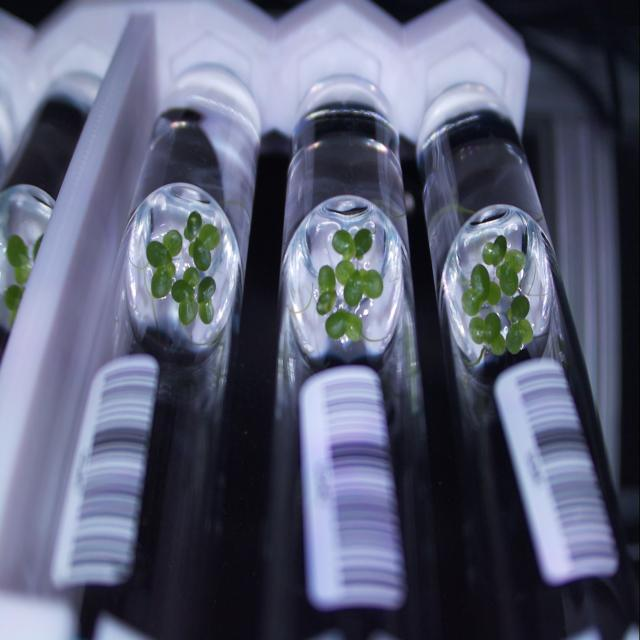Lemna-Gibba: (146, 230, 182, 299), (461, 264, 501, 317), (335, 260, 382, 305), (505, 295, 534, 354), (171, 267, 200, 325), (469, 312, 506, 355), (189, 223, 221, 271), (496, 248, 525, 295), (6, 235, 31, 287), (332, 228, 372, 260), (325, 309, 362, 342), (316, 265, 336, 315), (198, 277, 216, 324), (4, 285, 25, 324), (482, 235, 508, 265), (184, 210, 202, 242), (32, 235, 42, 255)
